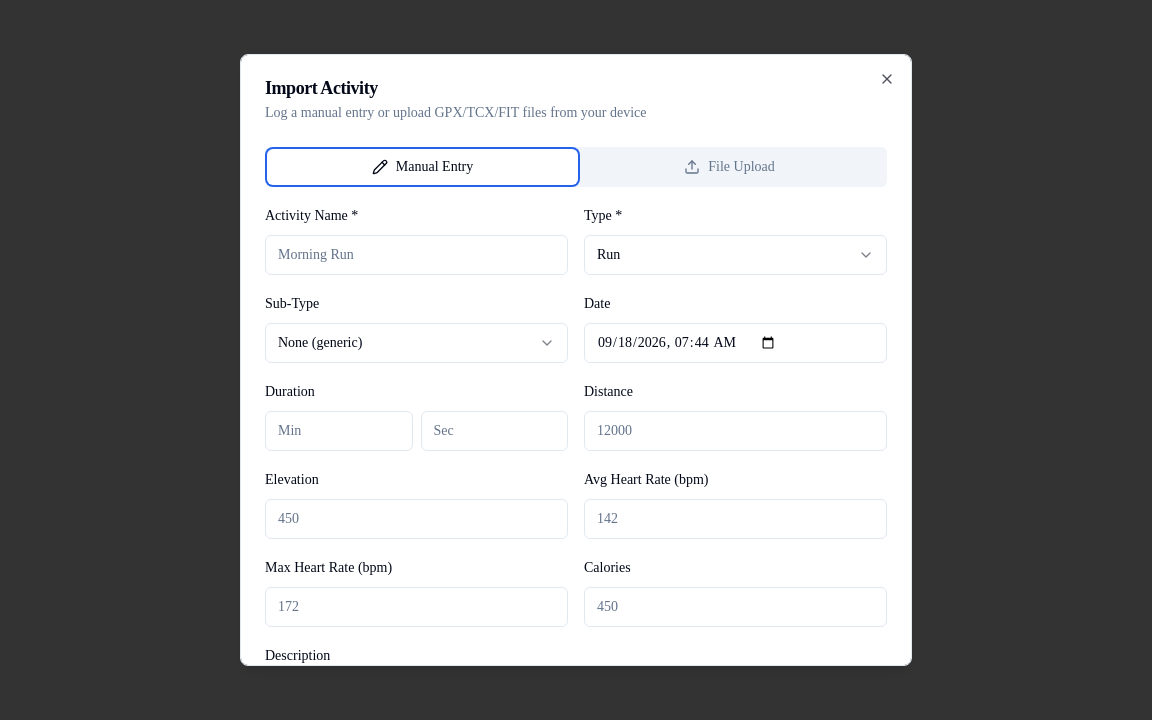
it: ImportModal › shows upload content when switching tabs
Step 1. Click the tab "File Upload" → {"x": 730, "y": 167}, box [576,151,883,183]
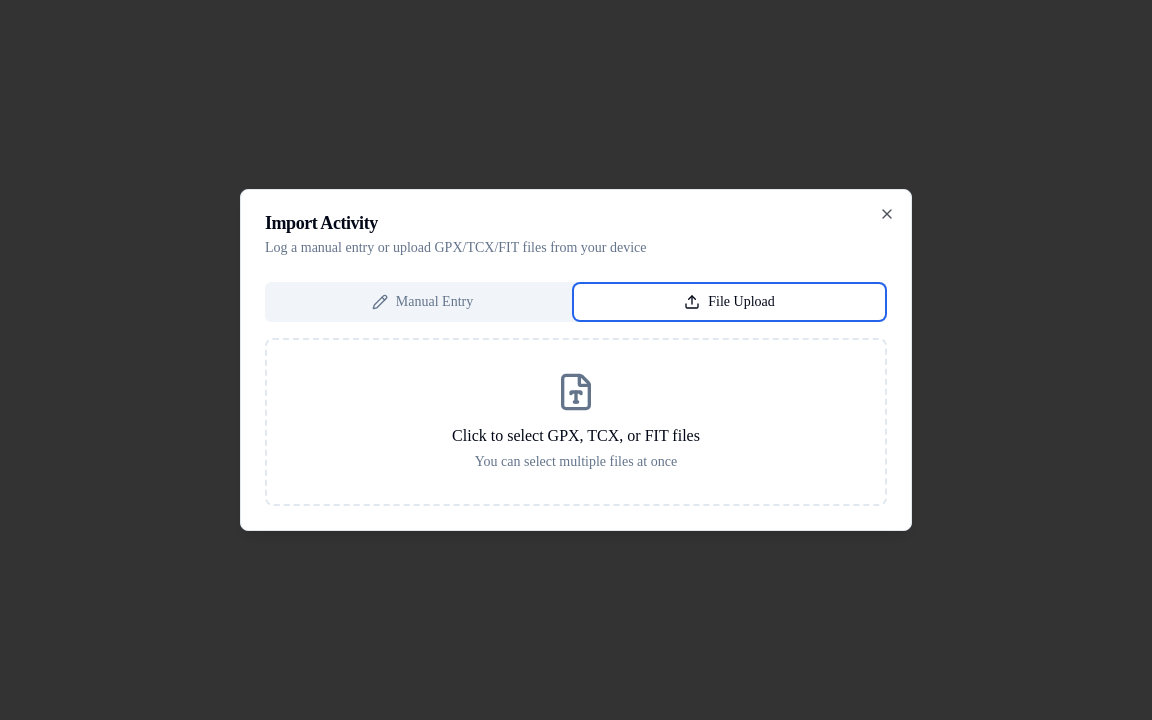
Check: the dialog shows "click to select", box [452,427,700,444]
